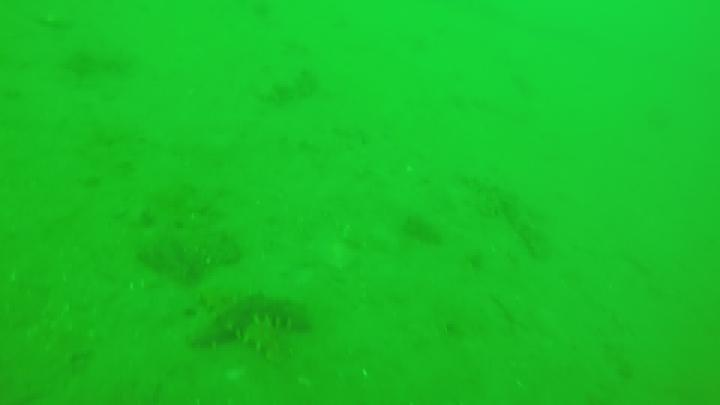holothurian: (180, 288, 315, 366)
